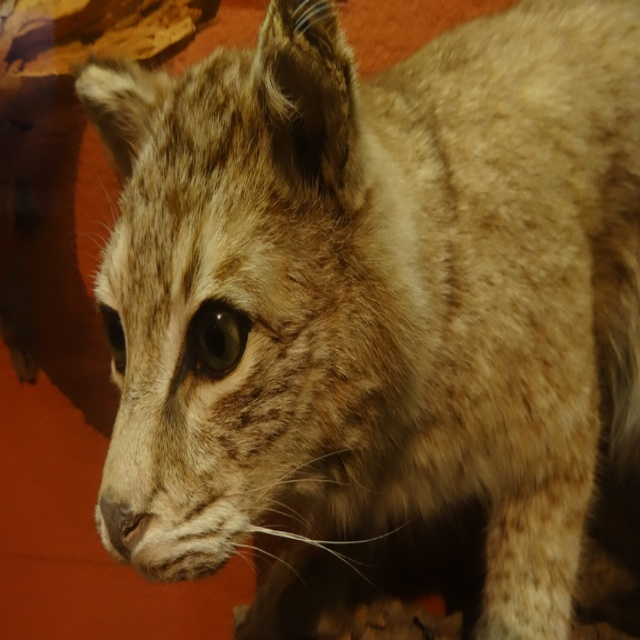Lynx: (69, 0, 640, 640)
